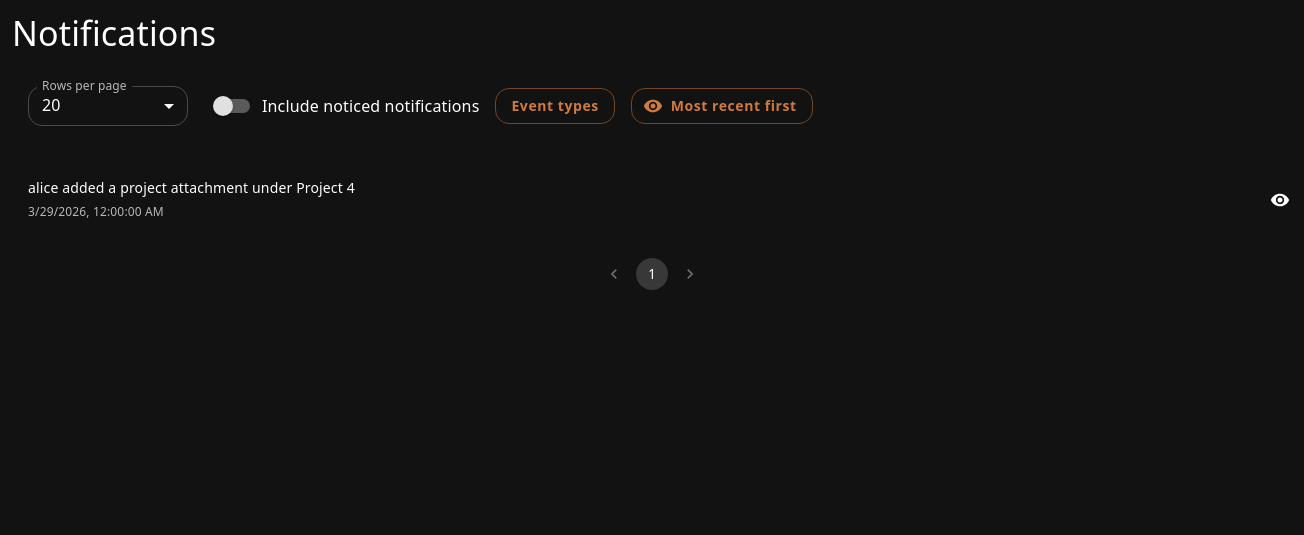
it: ProjectManagerNotificationsPage › lists the new issue-updates and mentions categories in the filter menu
Click the button "Event types".
click(555, 106)  # box [496, 88, 615, 124]
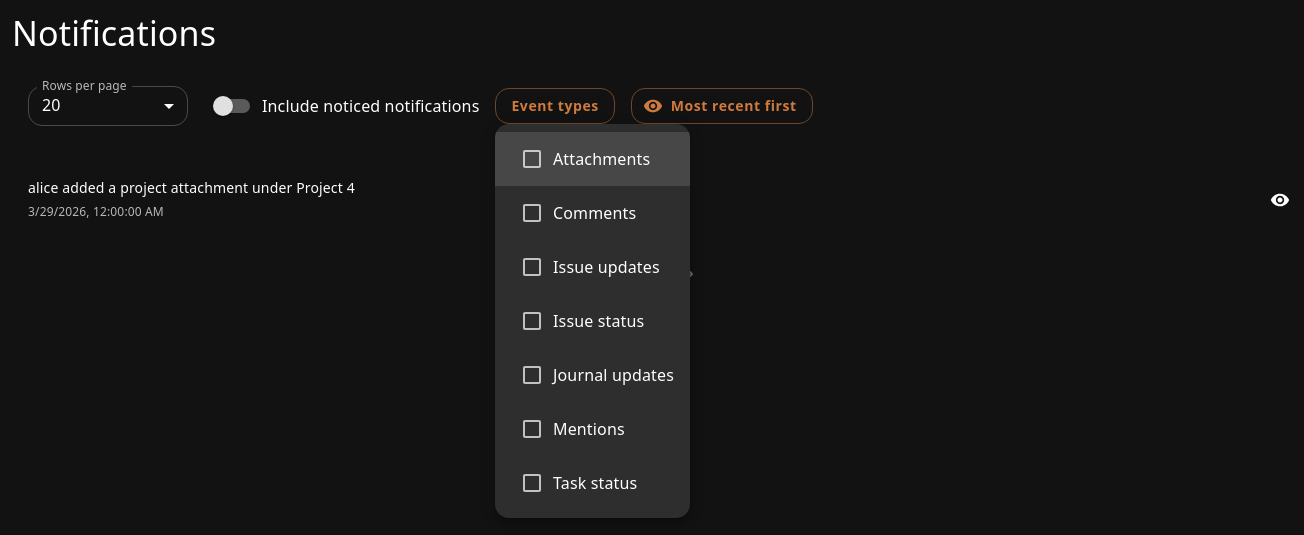
Result: the menu item "Issue updates" is shown at [520, 255, 660, 279]
Result: the menu item "Mentions" is shown at [520, 417, 625, 441]
